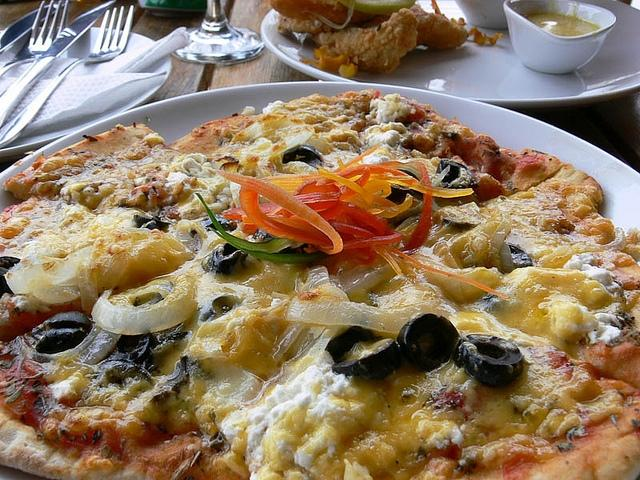onion: (286, 296, 434, 334), (91, 287, 192, 335), (17, 325, 102, 361), (338, 260, 396, 294), (4, 258, 52, 294), (78, 330, 122, 366), (294, 266, 330, 294), (598, 226, 625, 250), (432, 165, 449, 187), (52, 275, 78, 285)
